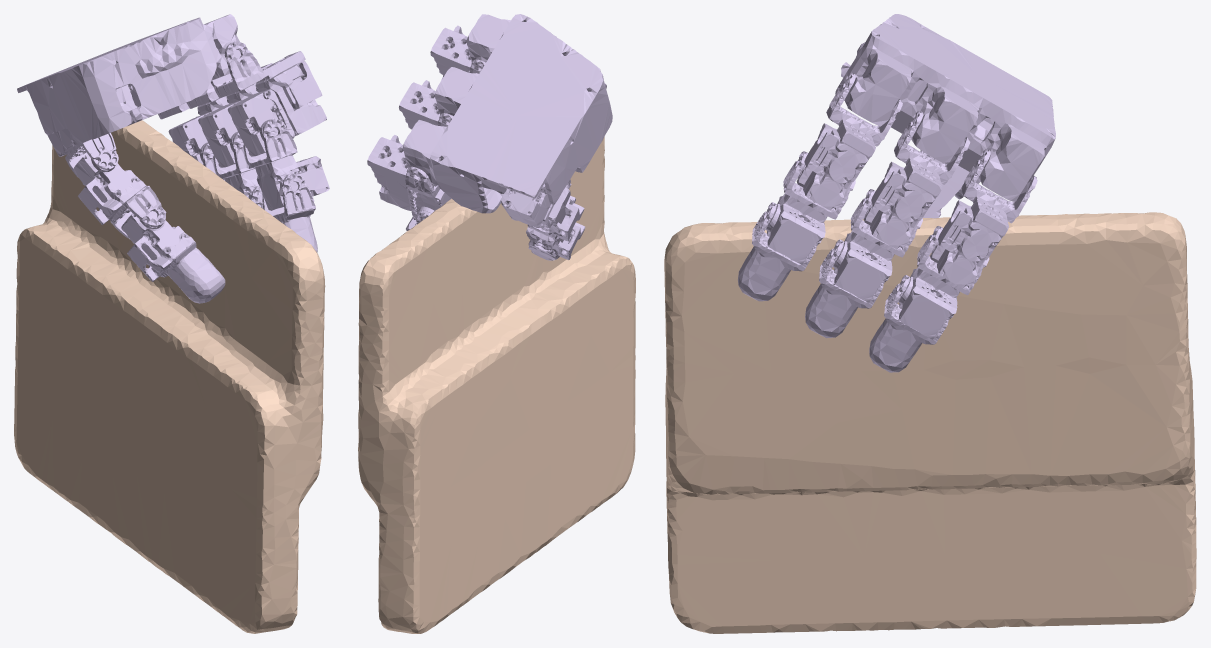
3 views of the same model, side by side, from view 1: azimuth 30°, elevation 25°; view 2: azimuth 150°, elevation 25°; view 3: azimuth 270°, elevation 25° (orthographic). The views are drawn at different scales.
Visible parts, largest first — view 1: world, LEAP_hand; view 2: world, LEAP_hand; view 3: world, LEAP_hand.
Boxes of the visible parts, x1,y1,x2,y2 form: world: (14,120,325,633); LEAP_hand: (17,14,329,303); world: (358,136,635,633); LEAP_hand: (367,14,612,260); world: (664,212,1196,633); LEAP_hand: (738,14,1055,372).
Bounding box in the file's own units: 0.1479 × 0.3794 × 0.3067.
